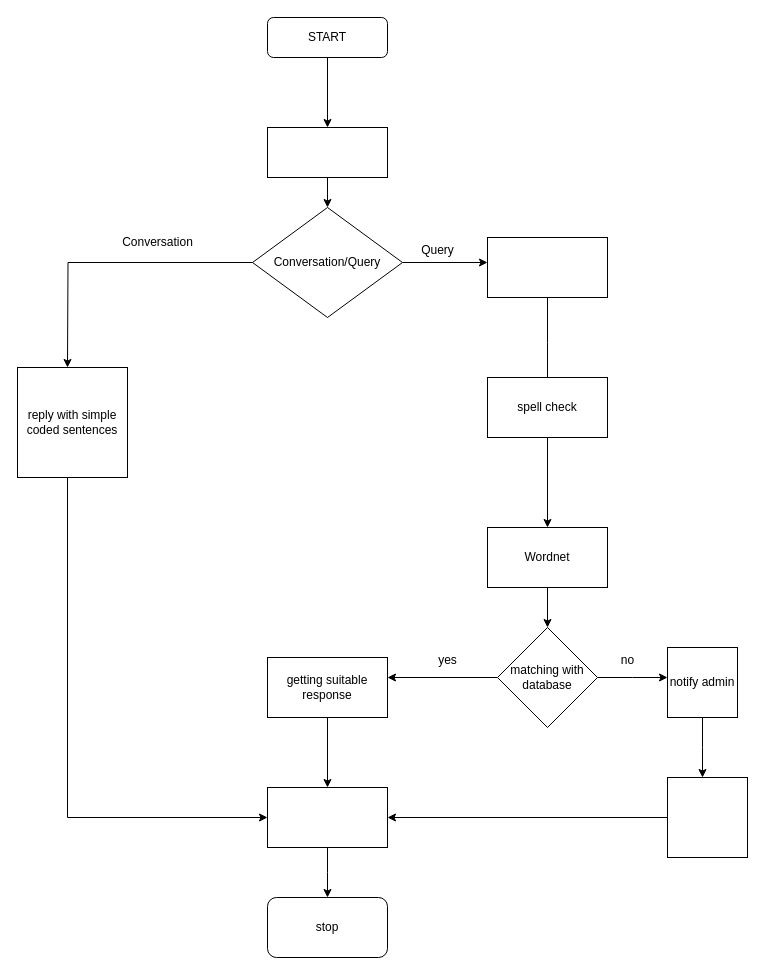
Image size: 765x975. Some labels were removed from this diagram. Each missing label, with the centre of its shape:
"Display response" belongs at point (327, 817).
"give predefined response" belongs at point (707, 817).
"Removing stop words" belongs at point (547, 267).
"USER INPUT" belongs at point (327, 152).
